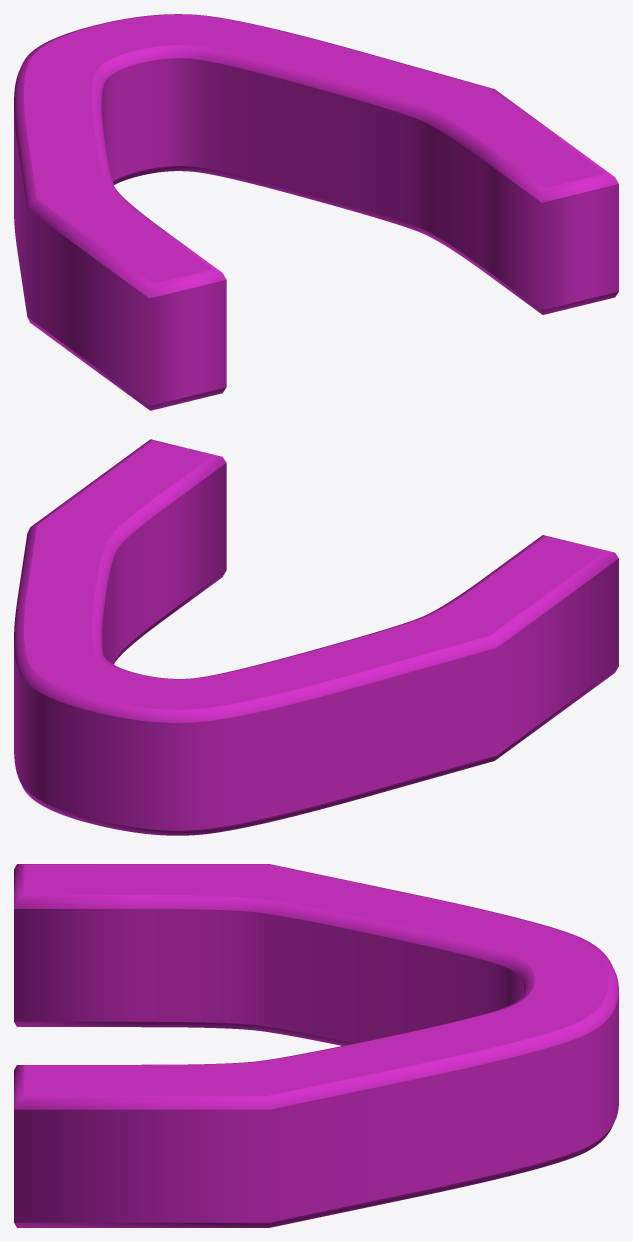
The model's file is Letter_v_CoolFont.fbx.
The picture shows the model from 3 angles, top to bottom: view 1: azimuth 30°, elevation 25°; view 2: azimuth 150°, elevation 25°; view 3: azimuth 270°, elevation 25°; orthographic projection. The views are drawn at different scales.
Visible parts, largest first — view 1: Letter_v; view 2: Letter_v; view 3: Letter_v.
Part boxes in pixels (left/top/right/bottom): Letter_v: left=14, top=14, right=618, bottom=410; Letter_v: left=14, top=439, right=618, bottom=835; Letter_v: left=14, top=864, right=618, bottom=1227.
Size of the model in its own units: 0.5478 by 0.14 by 0.5828.
